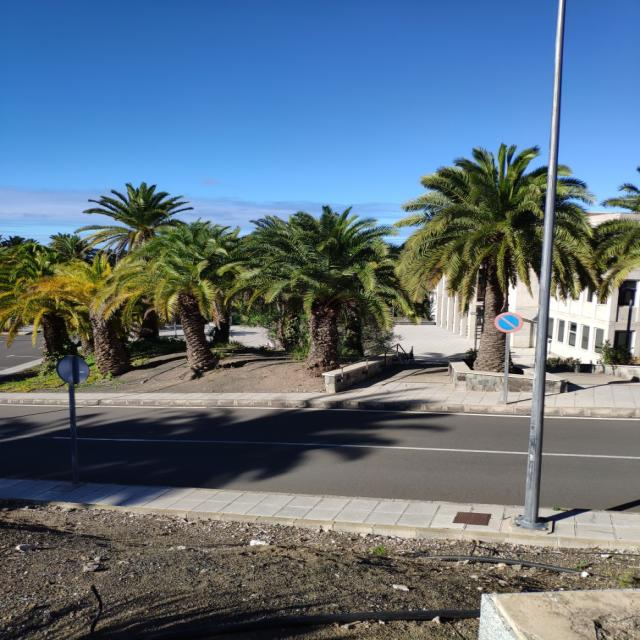Palm-Trees: (418, 144, 582, 374), (118, 235, 264, 372), (263, 214, 384, 372)
